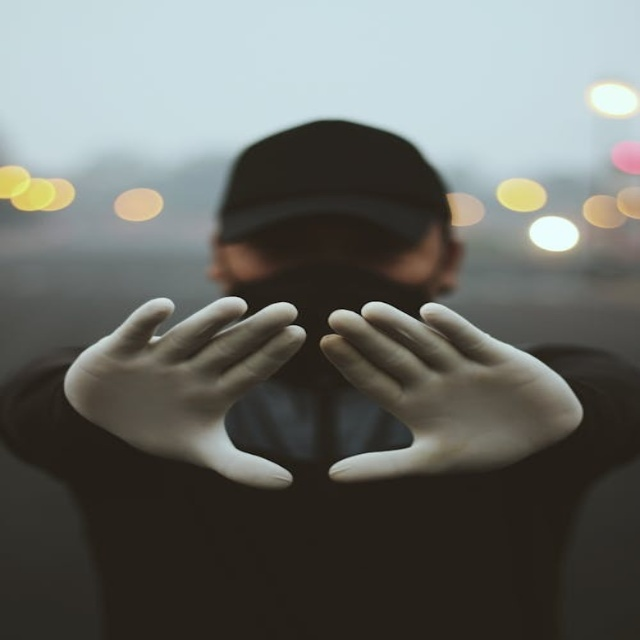Mascara: (222, 267, 436, 374)
Sin_guantes: (316, 298, 588, 485), (63, 293, 311, 491)
